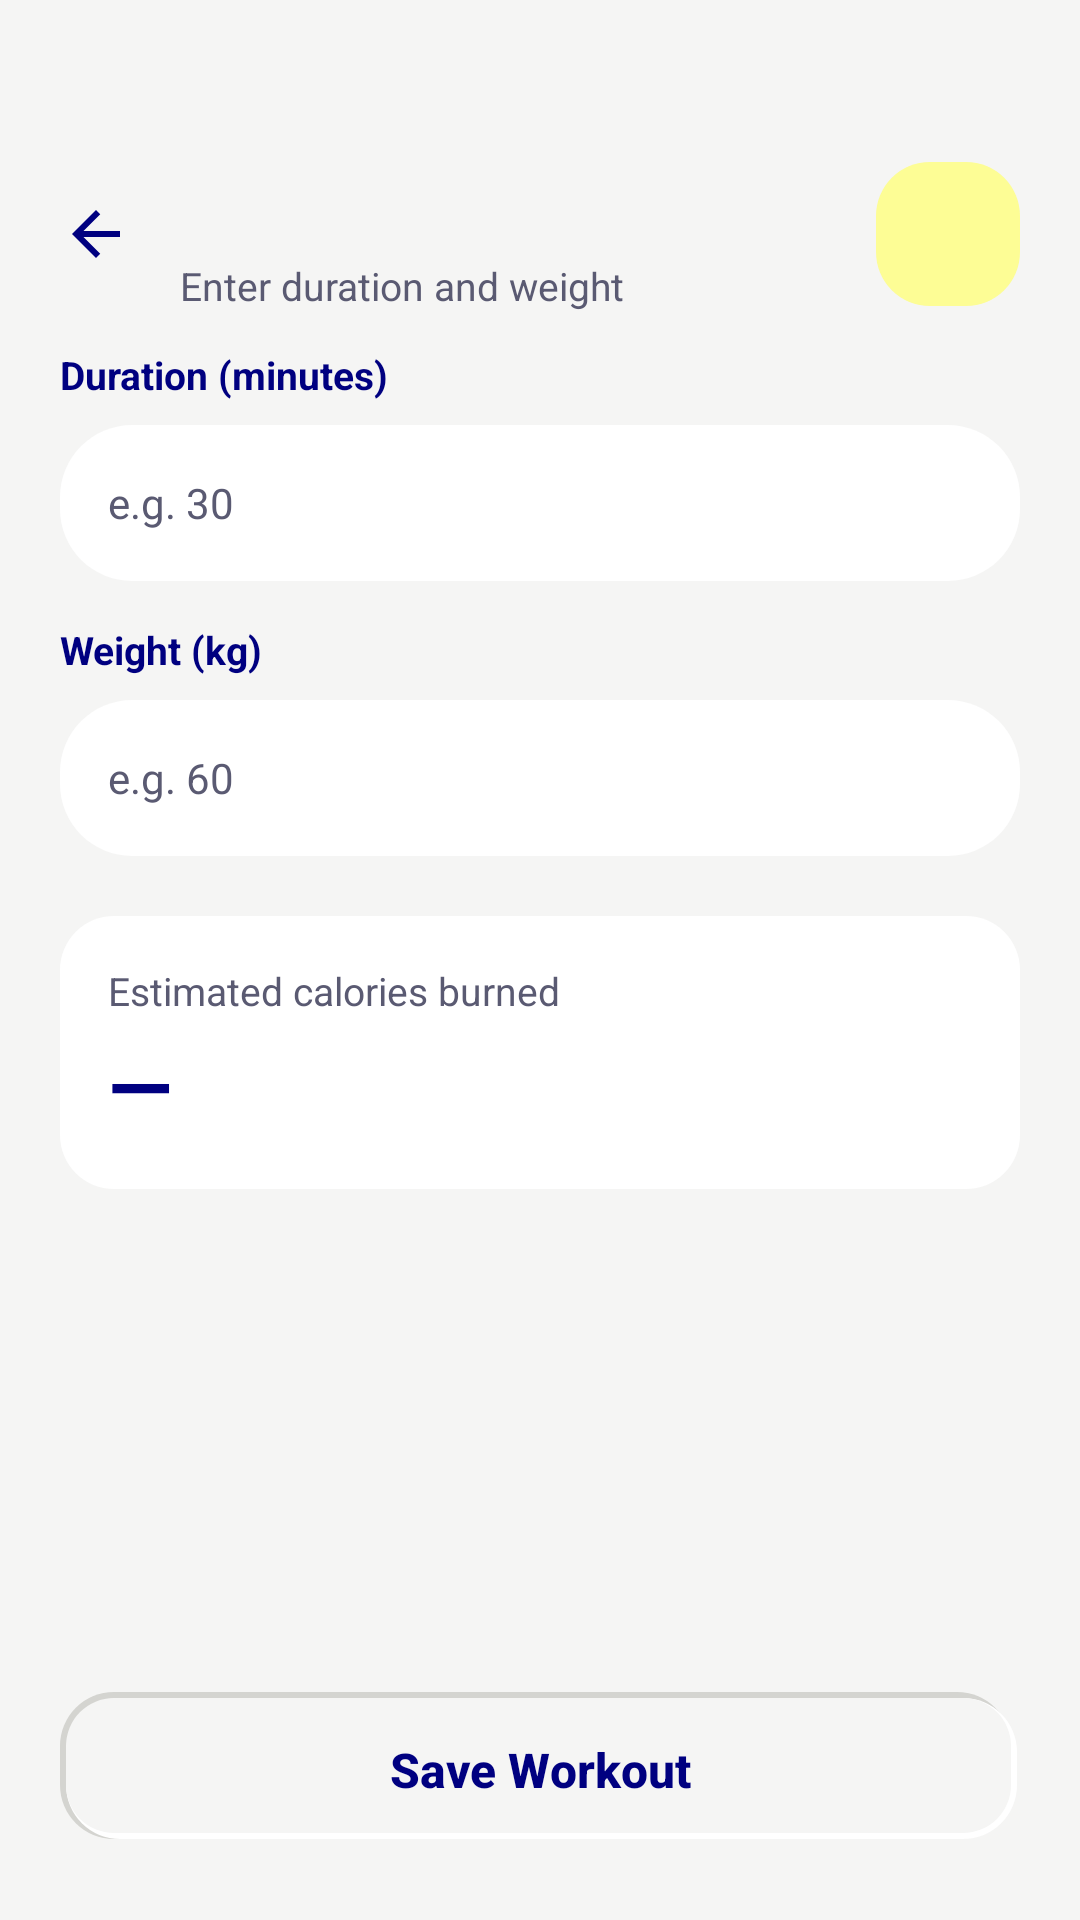

Icon click points for this 1080w x 1920h phone screenshot, format [x,y]:
Back: [96,234]
